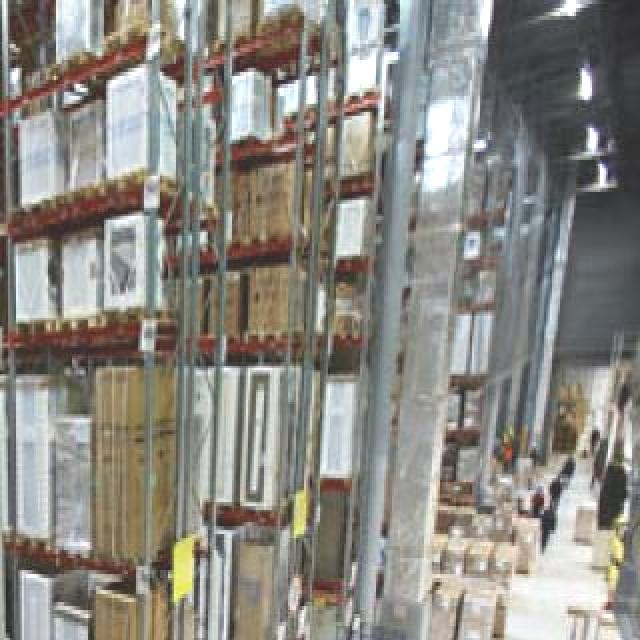fluorescent tube: (582, 147, 620, 204), (573, 116, 615, 165), (575, 59, 598, 97)
